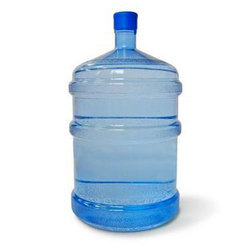Rec_Plastic: (60, 4, 186, 233)
